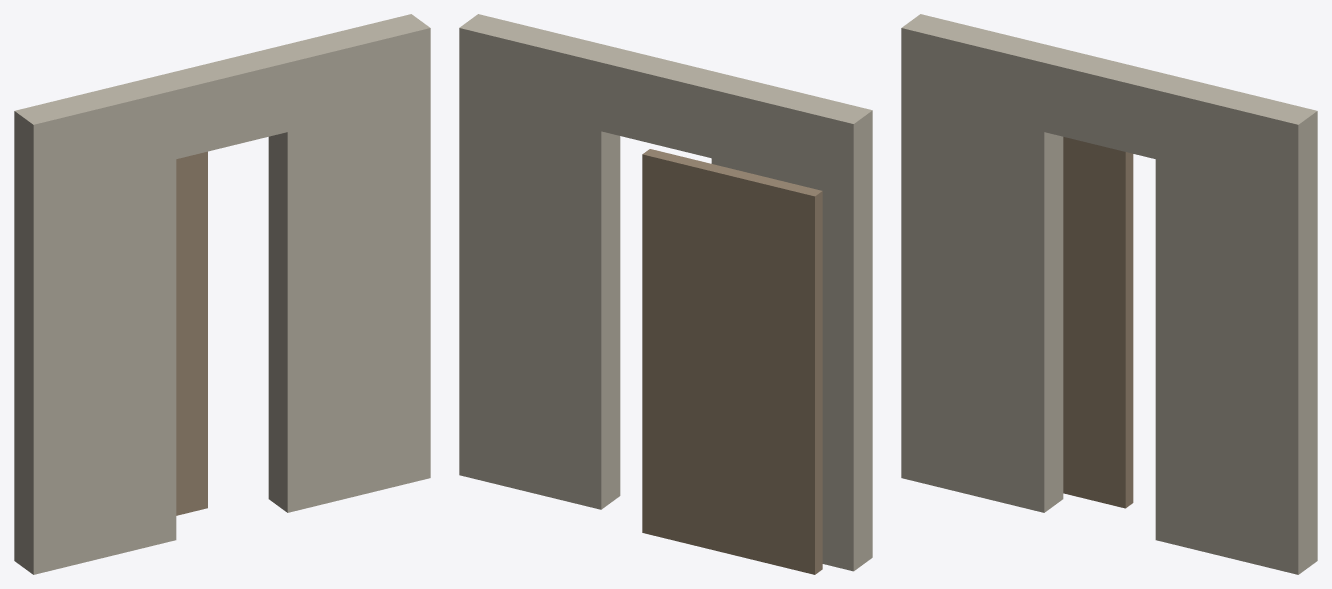
File: iz3_build_defense_gate_01.glb
3 renders of one model, left to right at view 1: azimuth 30°, elevation 25°; view 2: azimuth 150°, elevation 25°; view 3: azimuth 330°, elevation 25°, orthographic.
Visible parts, largest first — view 1: left, right, door_leaf, lintel; view 2: right, door_leaf, left, lintel; view 3: right, left, door_leaf, lintel.
Part boxes in pixels (x1,y1,x2,y2): left: (14, 76, 176, 574); right: (268, 14, 430, 512); door_leaf: (176, 151, 207, 515); lintel: (158, 49, 287, 158); right: (459, 14, 620, 509); door_leaf: (642, 149, 822, 574); left: (711, 75, 872, 571); lintel: (601, 48, 730, 158); right: (1155, 76, 1317, 574); left: (901, 14, 1063, 512); door_leaf: (1063, 137, 1133, 508); lintel: (1044, 49, 1173, 158).
Bounding box in the file's own units: 2.4 × 2.6 × 0.34.
